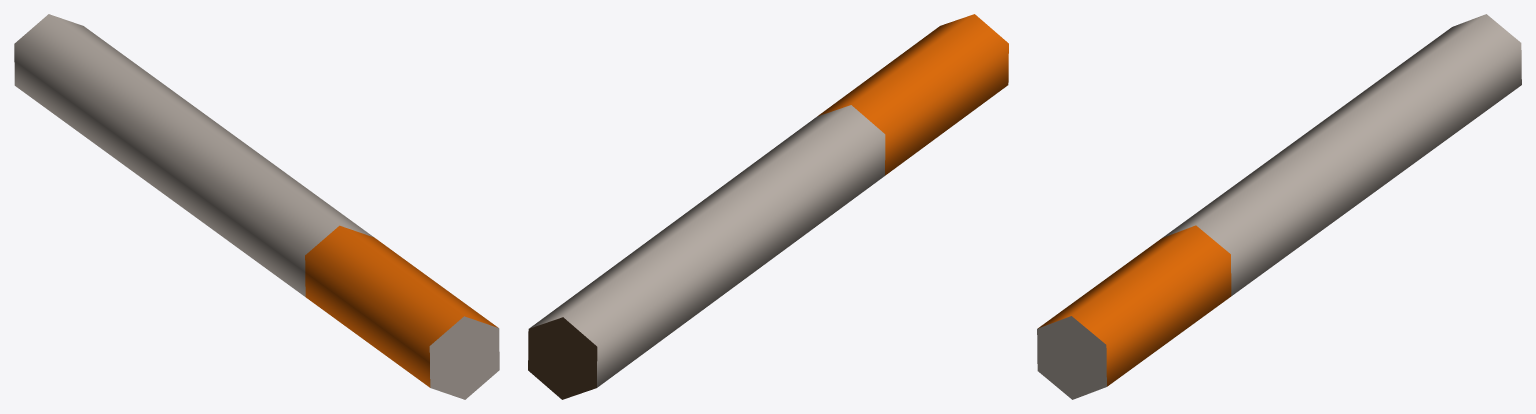
Rendered from Cigarette.fbx.
3 views of the same model, side by side, from view 1: azimuth 30°, elevation 25°; view 2: azimuth 150°, elevation 25°; view 3: azimuth 330°, elevation 25° (orthographic).
Parts seen in each view (by area): view 1: polySurface20; view 2: polySurface20; view 3: polySurface20.
Part boxes in pixels (box(x1,y1,x2,y2)): polySurface20: box(14, 14, 499, 399); polySurface20: box(528, 14, 1008, 399); polySurface20: box(1037, 14, 1521, 399).
Size of the model in its own units: 1.74 by 2.04 by 17.95.
